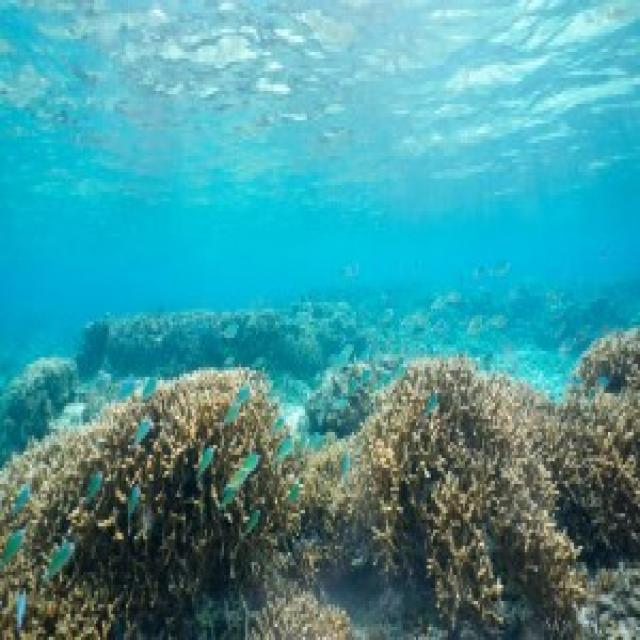Healthy: (349, 358, 639, 638), (1, 371, 300, 638), (487, 375, 639, 557), (291, 436, 391, 566), (568, 329, 639, 456), (248, 586, 355, 638)
